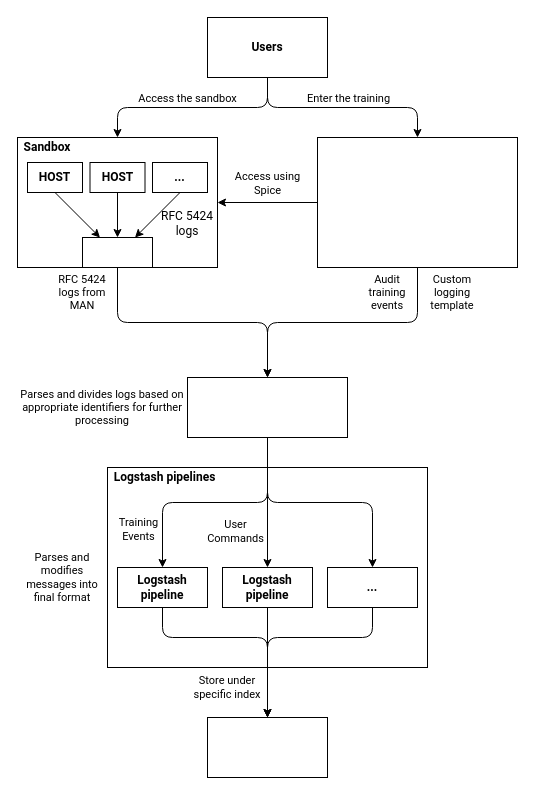
Some shapes in this 535 by 795 pixel diagram are drawn without their labels. Here are the shapes that lost their labels. From the top down, the centre of each, then its label:
pixel 417 202: Web Interface
pixel 117 252: MAN
pixel 267 407: KYPO Central Logging Server (Syslog-ng)
pixel 267 747: Elasticsearch
